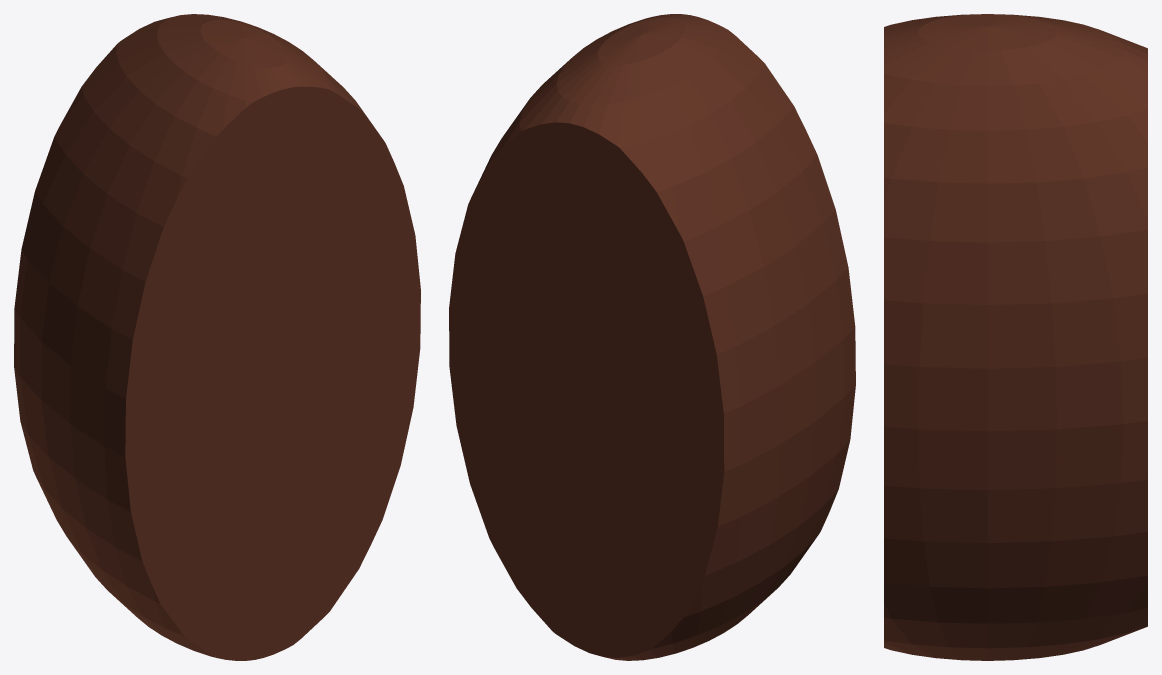
File: eye.fbx
The picture shows the model from 3 angles, left to right: view 1: azimuth 30°, elevation 25°; view 2: azimuth 150°, elevation 25°; view 3: azimuth 270°, elevation 25°; orthographic projection. The views are drawn at different scales.
Parts seen in each view (by area): view 1: Sphere; view 2: Sphere; view 3: Sphere.
Boxes of the visible parts, box(x1,y1,x2,y2) form: Sphere: box(14, 14, 420, 660); Sphere: box(449, 14, 855, 660); Sphere: box(884, 14, 1147, 660).
Bounding box in the file's own units: 110 × 200 × 74.24.
